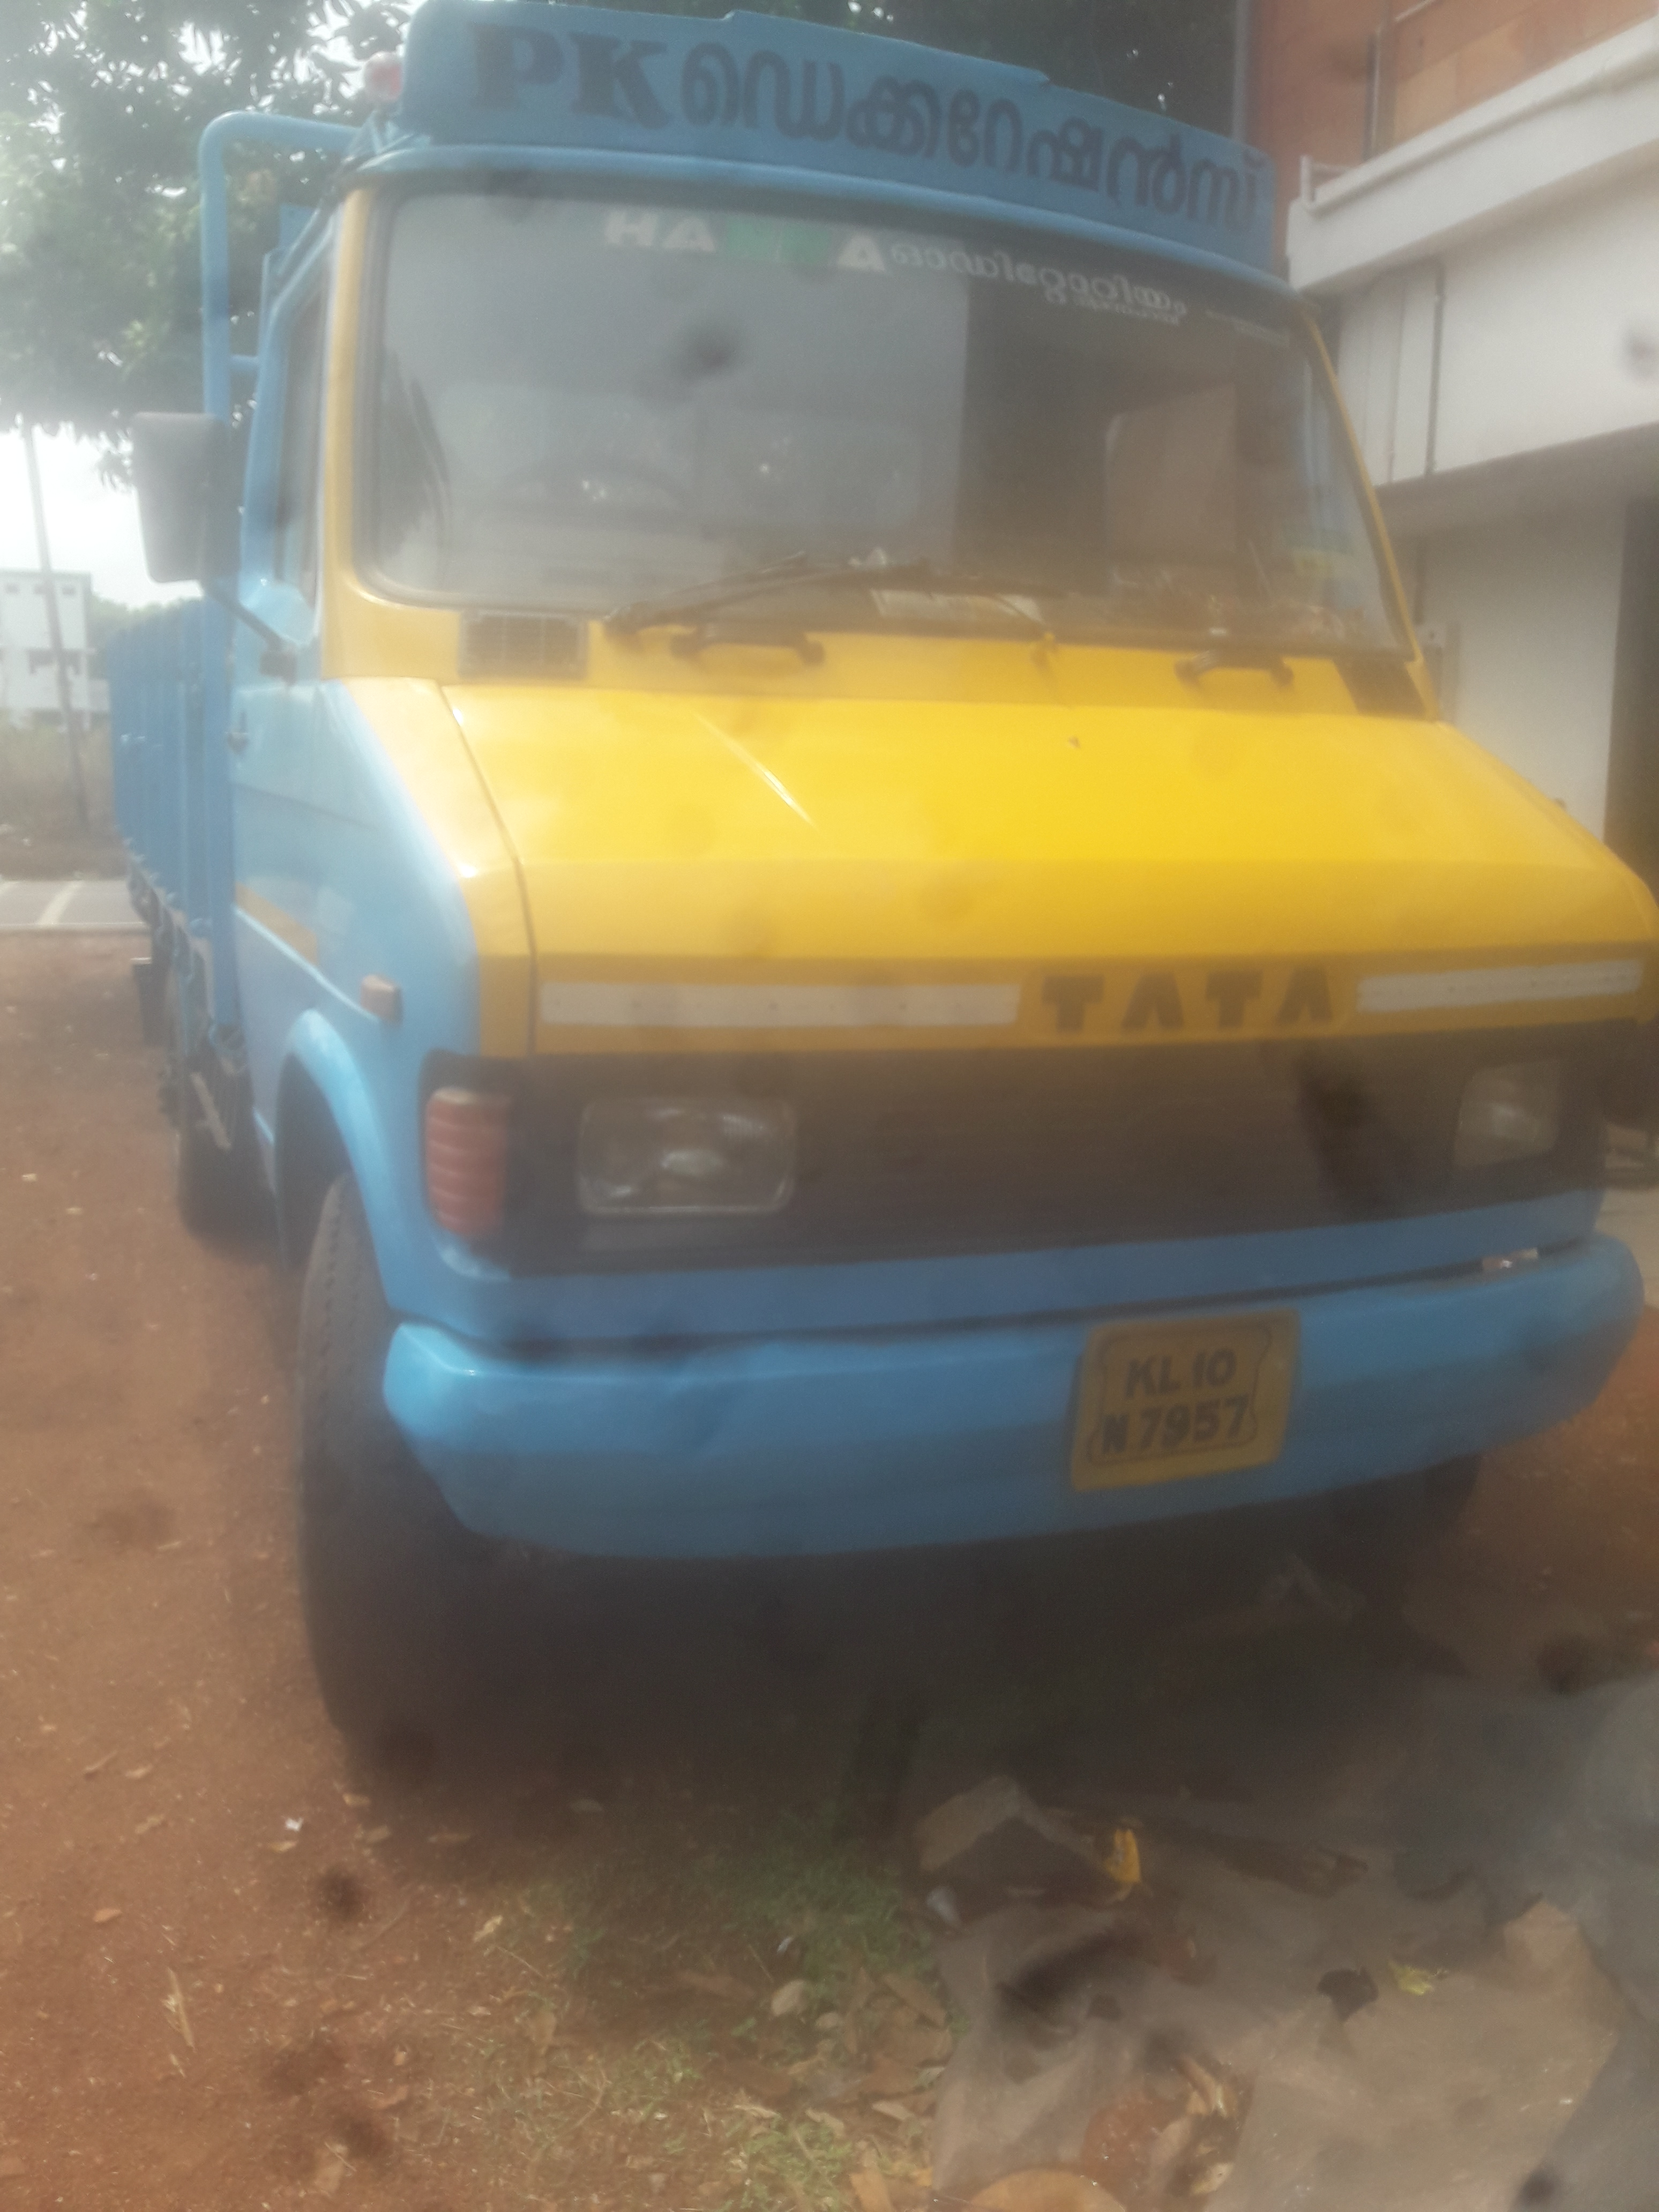truck: (94, 0, 1659, 1754)
